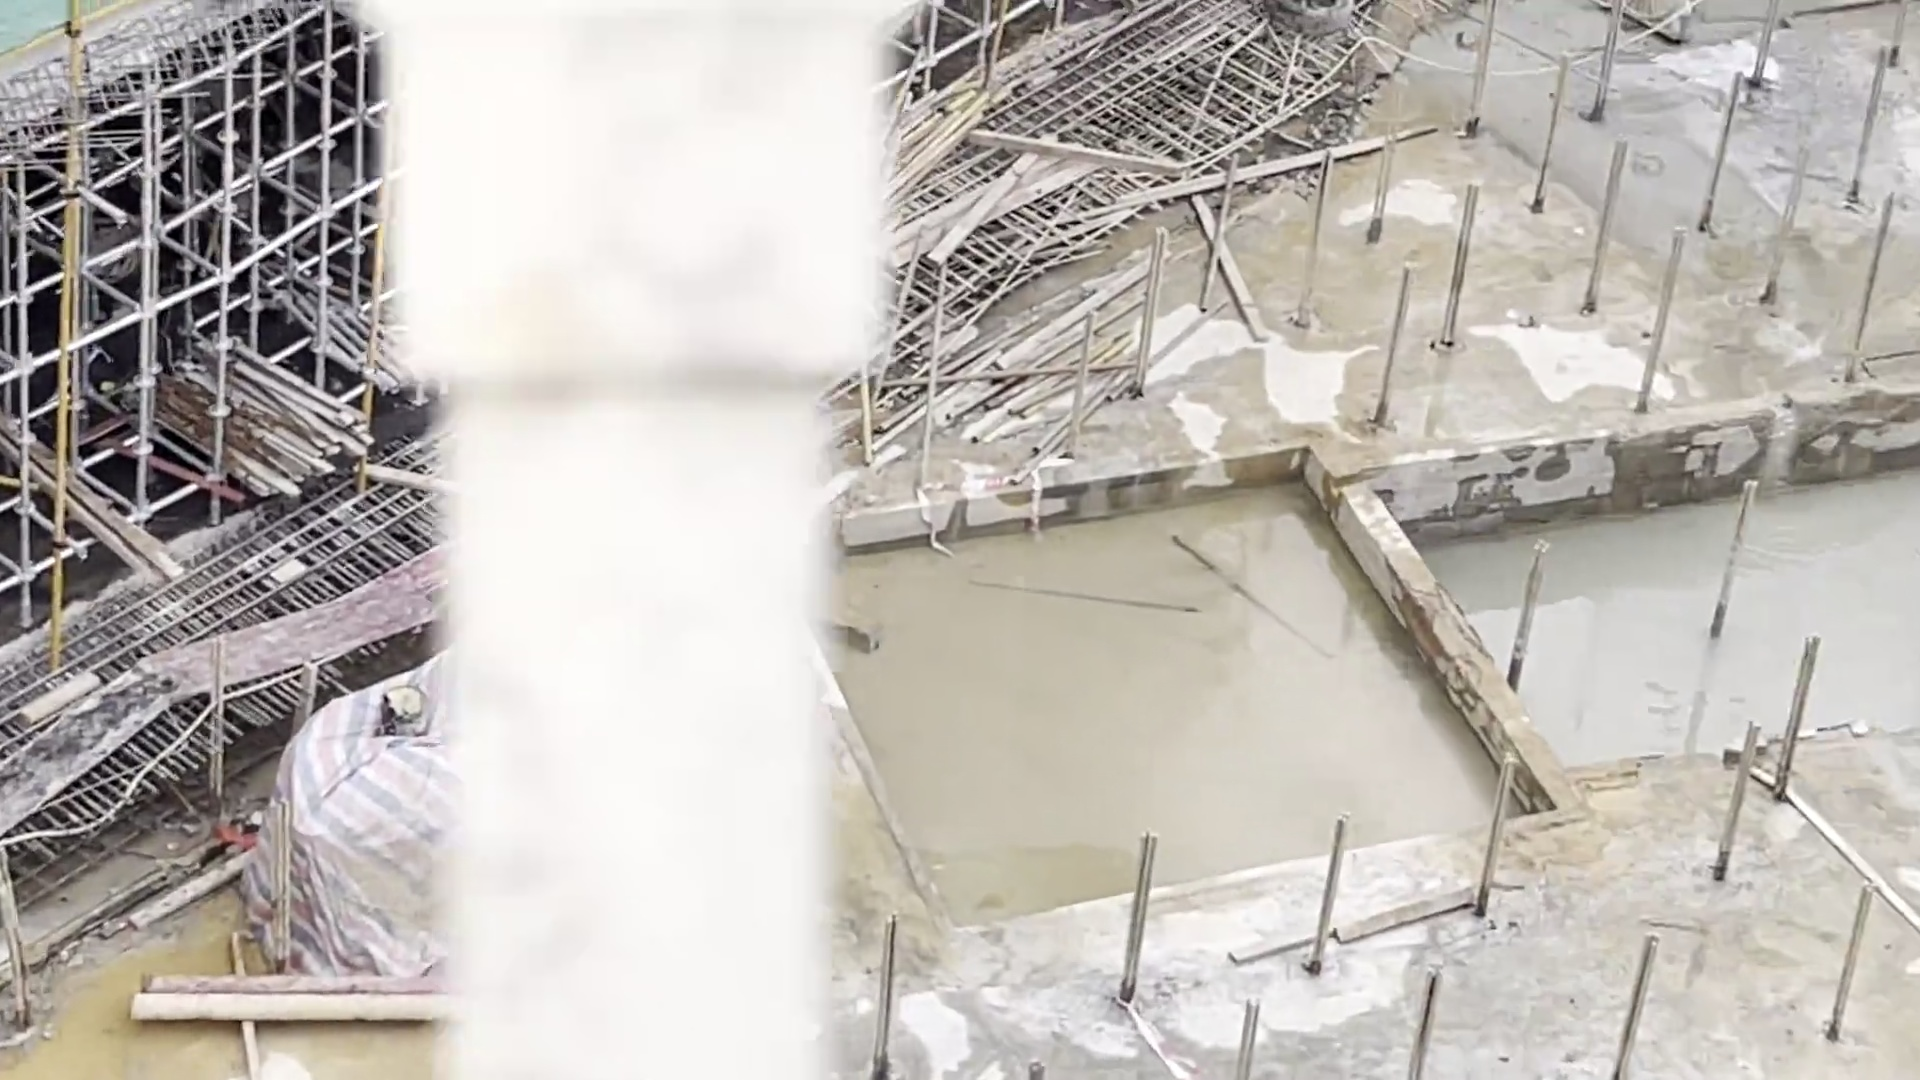wood: (137, 322, 371, 512)
